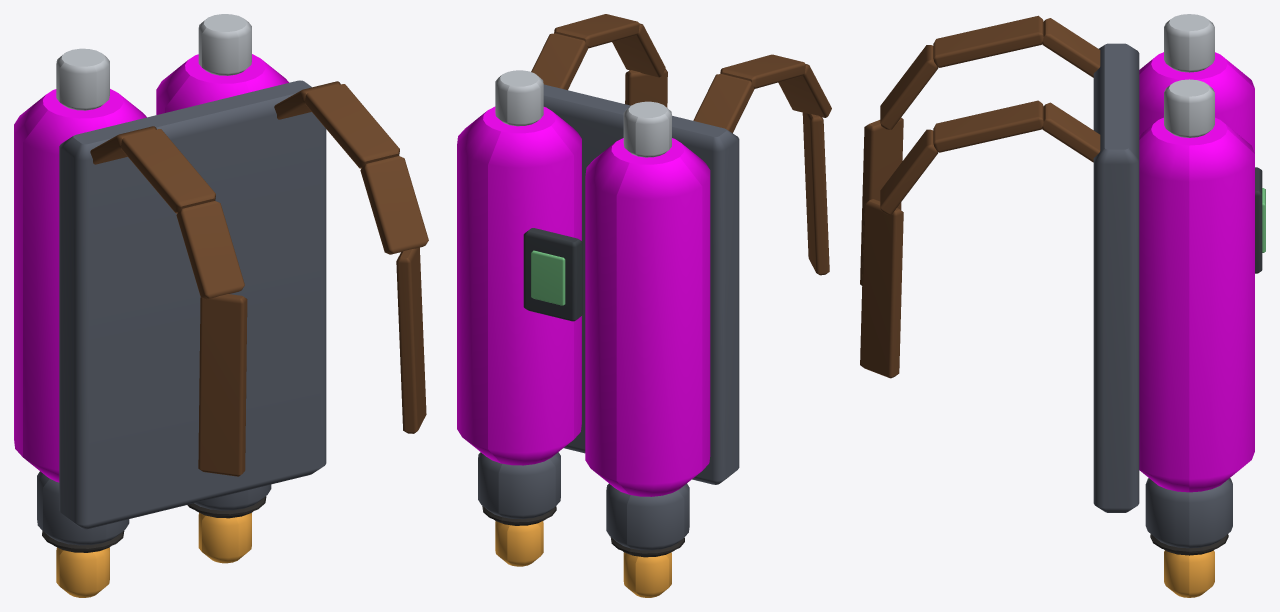
Rendered from porte_propulseur.glb.
3 renders of one model, left to right at view 1: azimuth 30°, elevation 25°; view 2: azimuth 150°, elevation 25°; view 3: azimuth 270°, elevation 25°, orthographic. The views are drawn at different scales.
Visible parts, largest first — view 1: poitrine__propulseur_exo_metal.002, poitrine__propulseur_sac_cuir.002, poitrine__propulseur_teinte.002, poitrine__propulseur_rivet.002, poitrine__propulseur_flamme_jet.002, poitrine__propulseur_semelle.002; view 2: poitrine__propulseur_teinte.002, poitrine__propulseur_exo_metal.002, poitrine__propulseur_sac_cuir.002, poitrine__propulseur_rivet.002, poitrine__propulseur_flamme_jet.002, poitrine__propulseur_teinte_sombre.002, poitrine__propulseur_exo_vert.002, poitrine__propulseur_semelle.002; view 3: poitrine__propulseur_teinte.002, poitrine__propulseur_exo_metal.002, poitrine__propulseur_sac_cuir.002, poitrine__propulseur_rivet.002, poitrine__propulseur_flamme_jet.002, poitrine__propulseur_teinte_sombre.002, poitrine__propulseur_semelle.002.
Boxes of the visible parts, bbox=[...] form: poitrine__propulseur_exo_metal.002: bbox=[37, 80, 326, 545]; poitrine__propulseur_sac_cuir.002: bbox=[90, 81, 428, 476]; poitrine__propulseur_teinte.002: bbox=[14, 54, 288, 482]; poitrine__propulseur_rivet.002: bbox=[56, 14, 251, 110]; poitrine__propulseur_flamme_jet.002: bbox=[56, 512, 251, 597]; poitrine__propulseur_semelle.002: bbox=[42, 496, 266, 552]; poitrine__propulseur_teinte.002: bbox=[457, 106, 710, 496]; poitrine__propulseur_exo_metal.002: bbox=[478, 84, 739, 550]; poitrine__propulseur_sac_cuir.002: bbox=[531, 14, 831, 275]; poitrine__propulseur_rivet.002: bbox=[495, 70, 671, 157]; poitrine__propulseur_flamme_jet.002: bbox=[495, 521, 671, 597]; poitrine__propulseur_teinte_sombre.002: bbox=[523, 228, 582, 321]; poitrine__propulseur_exo_vert.002: bbox=[531, 250, 565, 305]; poitrine__propulseur_semelle.002: bbox=[482, 506, 684, 557]; poitrine__propulseur_teinte.002: bbox=[1139, 52, 1254, 492]; poitrine__propulseur_exo_metal.002: bbox=[1093, 43, 1232, 548]; poitrine__propulseur_sac_cuir.002: bbox=[860, 15, 1100, 378]; poitrine__propulseur_rivet.002: bbox=[1164, 14, 1214, 137]; poitrine__propulseur_flamme_jet.002: bbox=[1164, 550, 1214, 597]; poitrine__propulseur_teinte_sombre.002: bbox=[1255, 167, 1262, 273]; poitrine__propulseur_semelle.002: bbox=[1150, 534, 1228, 555].
Bounding box in the file's own units: 0.314 × 0.61 × 0.4455.
